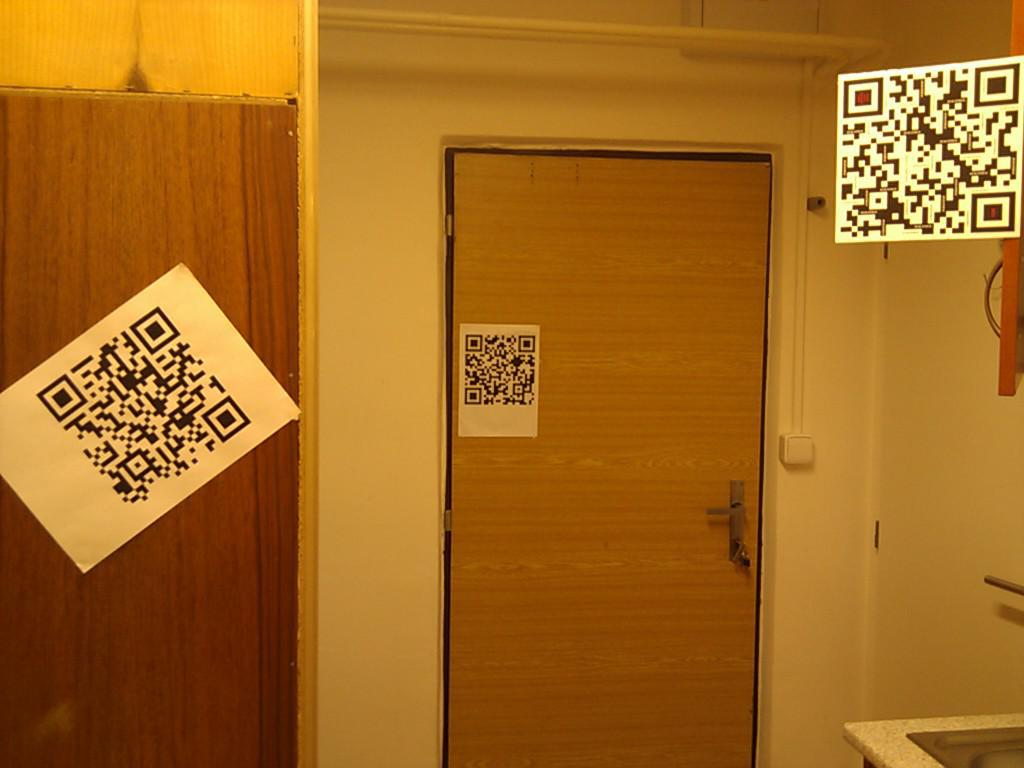Finder pattern: (35, 369, 87, 419), (132, 306, 180, 356), (200, 395, 251, 441), (969, 189, 1018, 234), (974, 61, 1021, 106), (840, 78, 887, 120), (460, 384, 487, 409), (463, 330, 486, 355), (515, 331, 538, 354)
